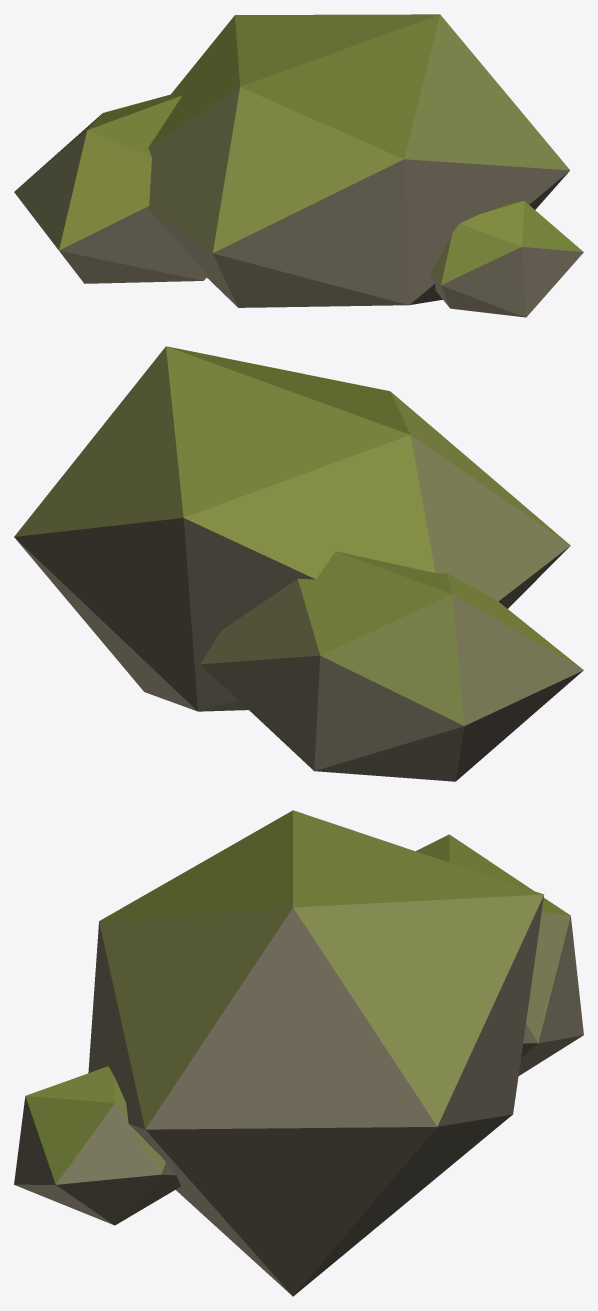
File: stone.glb
The picture shows the model from 3 angles, top to bottom: view 1: azimuth 30°, elevation 25°; view 2: azimuth 150°, elevation 25°; view 3: azimuth 270°, elevation 25°; orthographic projection. The views are drawn at different scales.
Parts seen in each view (by area): view 1: rock_small_solid; view 2: rock_small_solid; view 3: rock_small_solid.
Part boxes in pixels (x1,y1,x2,y2): rock_small_solid: (14, 14, 583, 317); rock_small_solid: (14, 346, 583, 781); rock_small_solid: (14, 810, 583, 1296).
Bounding box in the file's own units: 0.7541 × 0.4753 × 0.6498.
